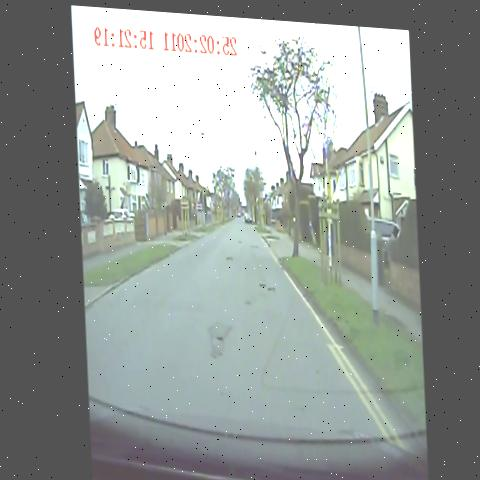pothole: (199, 317, 227, 358), (255, 275, 275, 294), (237, 286, 251, 307), (222, 244, 231, 261), (249, 236, 259, 249), (234, 230, 242, 243)
